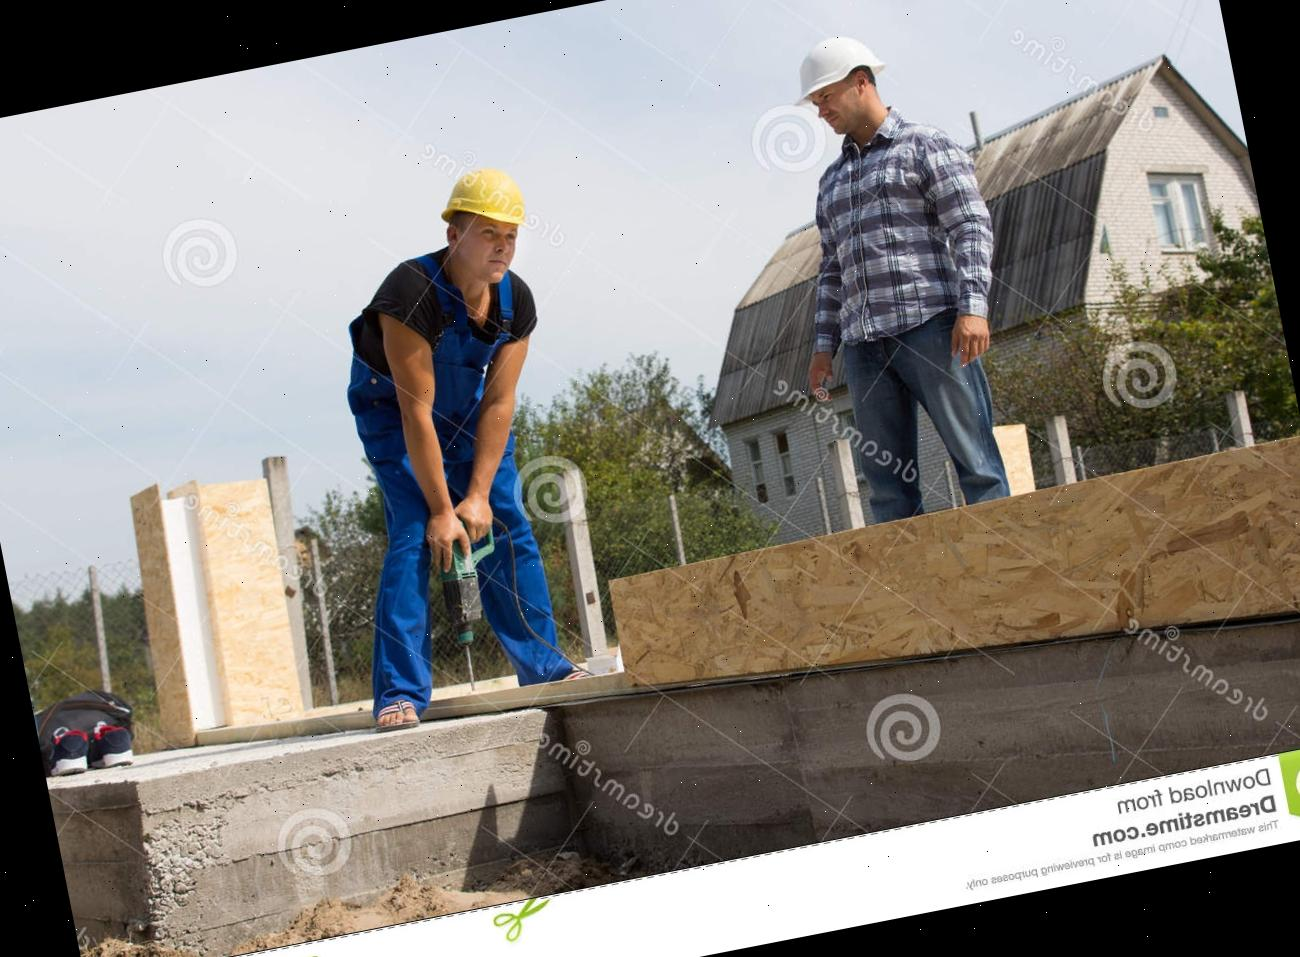helmet: (433, 157, 539, 243), (786, 26, 891, 100)
no_wear: (346, 275, 549, 477), (797, 135, 981, 348)
